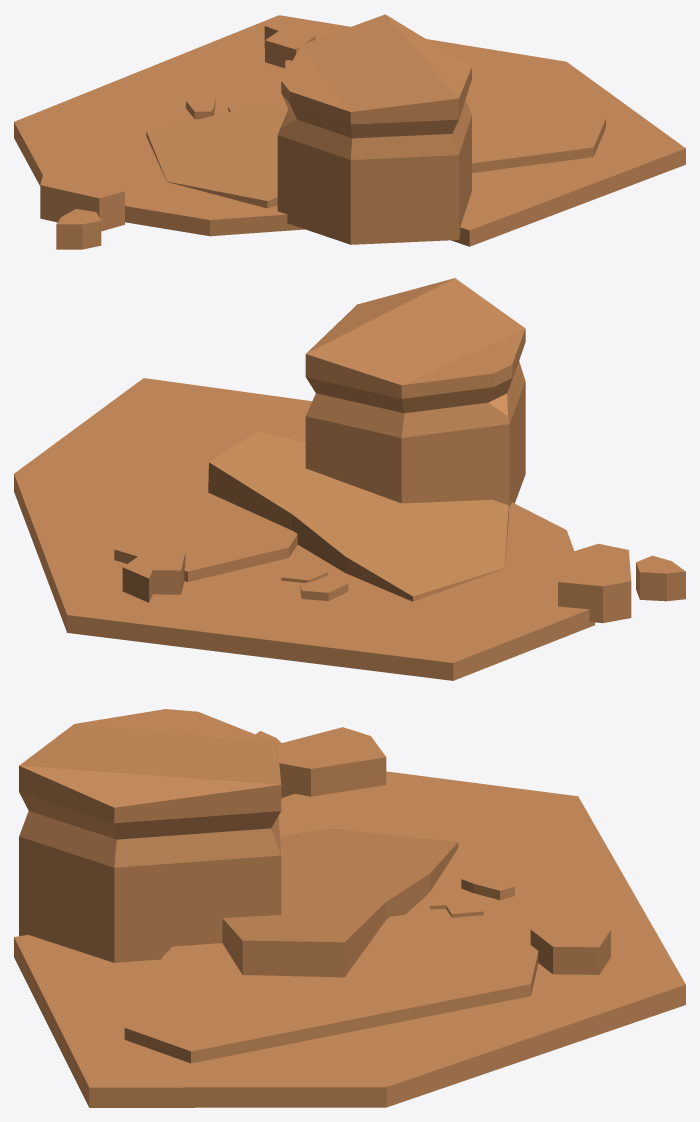
Rendered from SandRocks6_LOD1.fbx.
The picture shows the model from 3 angles, top to bottom: view 1: azimuth 30°, elevation 25°; view 2: azimuth 150°, elevation 25°; view 3: azimuth 270°, elevation 25°; orthographic projection. The views are drawn at different scales.
Visible parts, largest first — view 1: Plane.175; view 2: Plane.175; view 3: Plane.175.
Part boxes in pixels (<box>): Plane.175: <box>14,14,685,249</box>; Plane.175: <box>14,278,685,680</box>; Plane.175: <box>14,709,685,1107</box>.
Bounding box in the file's own units: 127 × 32.11 × 105.
